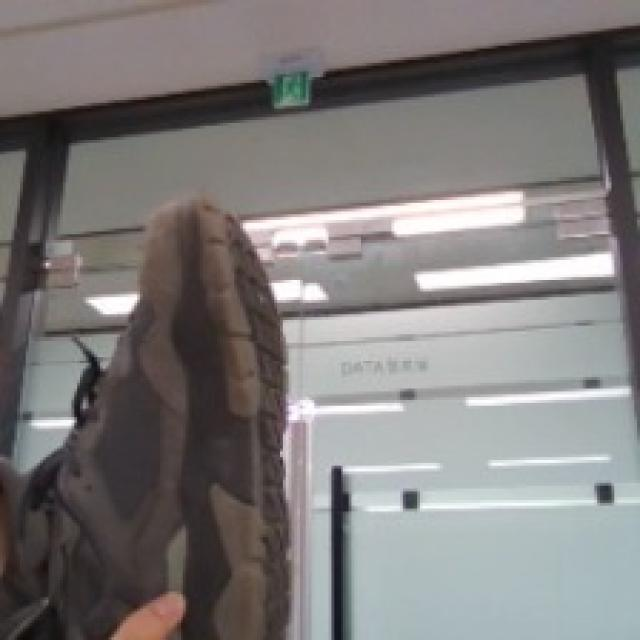shoe: (16, 197, 294, 640)
